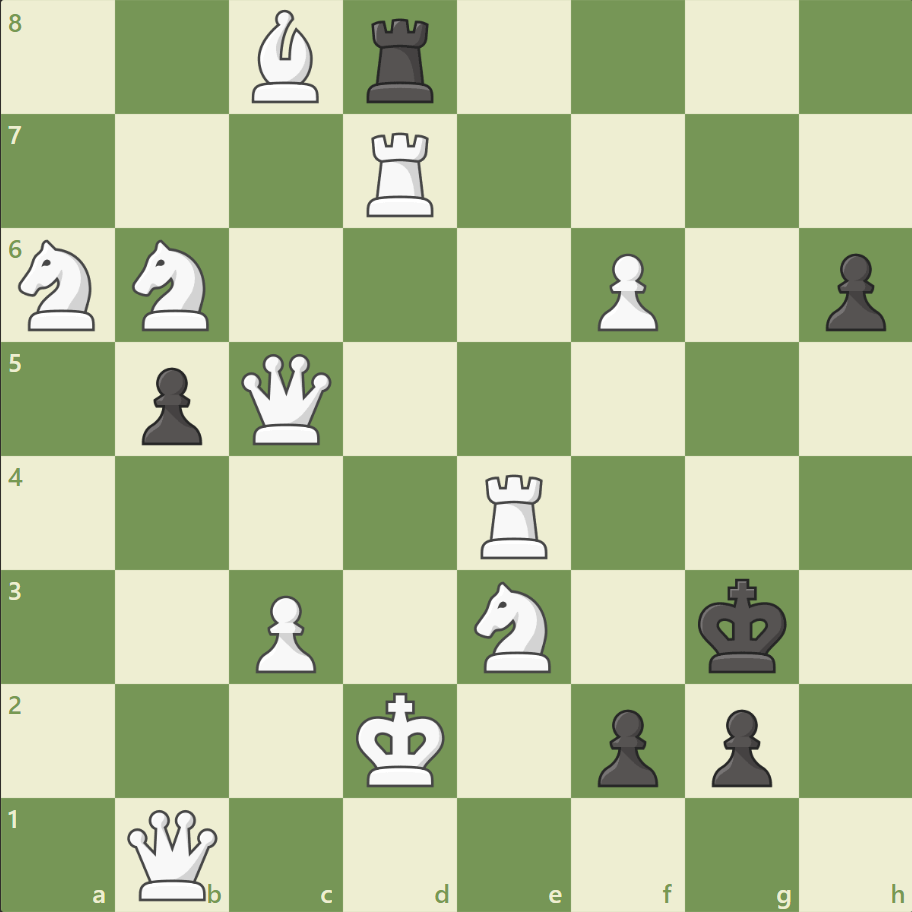B: (244, 6, 328, 109)
K: (351, 685, 451, 793)
N: (124, 234, 222, 337), (11, 234, 108, 337), (465, 575, 562, 677)
P: (247, 586, 322, 677), (588, 246, 662, 337)
Q: (237, 349, 336, 449), (124, 804, 223, 903)
R: (473, 466, 556, 563), (360, 125, 442, 222)
k: (692, 571, 792, 679)
p: (133, 359, 208, 450), (701, 700, 776, 791), (815, 246, 889, 337), (588, 700, 662, 791)
r: (360, 12, 442, 109)
